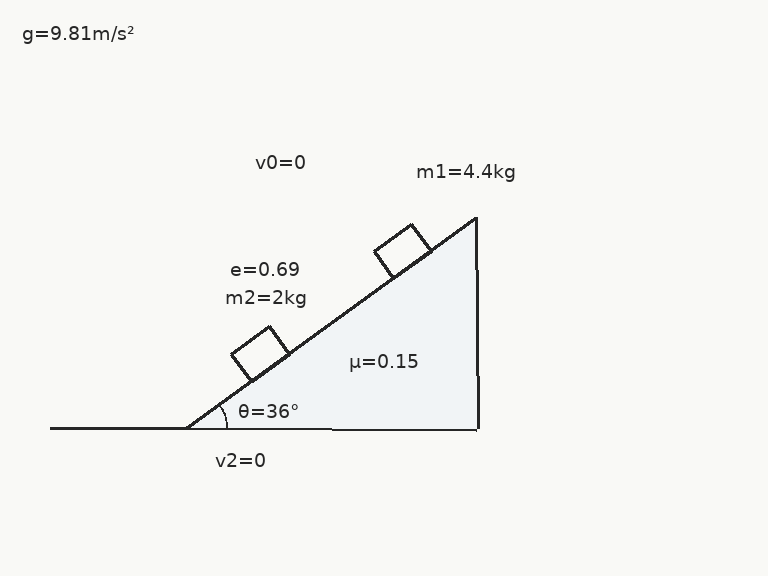block: (371, 221, 433, 280), (230, 324, 291, 383)
ramp: (185, 216, 479, 430)
